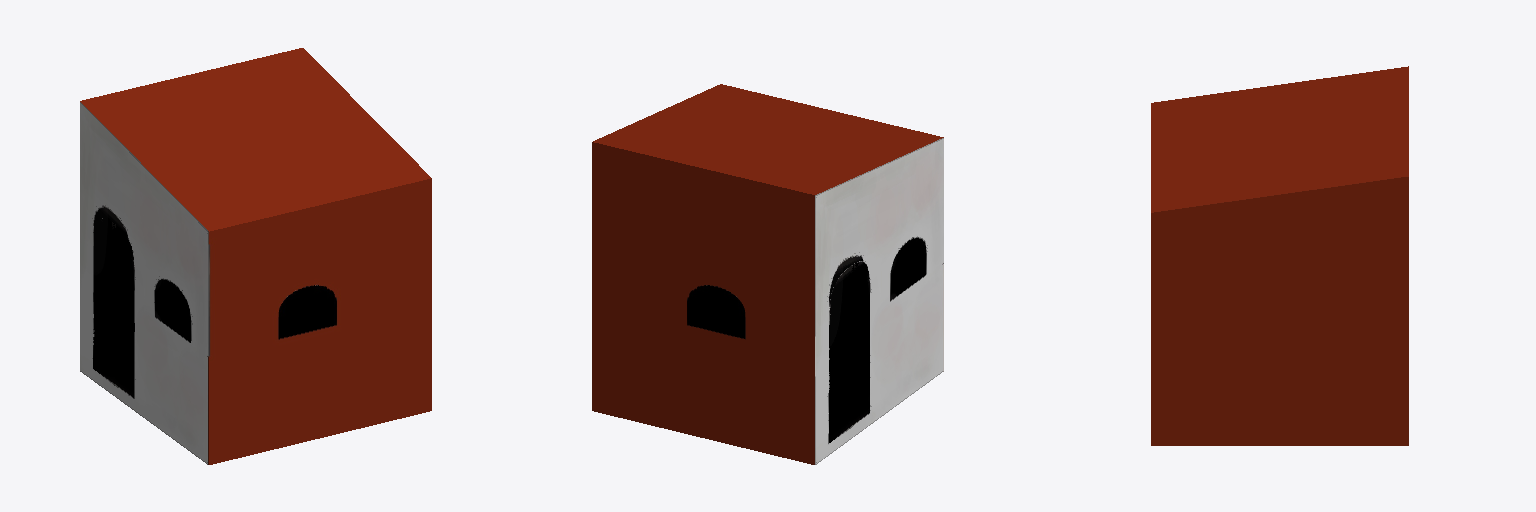
The picture shows the model from 3 angles: view 1: azimuth 30°, elevation 25°; view 2: azimuth 150°, elevation 25°; view 3: azimuth 270°, elevation 25°; orthographic projection.
Parts seen in each view (by area): view 1: pCube7; view 2: pCube7; view 3: pCube7.
Part boxes in pixels (left/top/right/bottom): pCube7: left=80, top=48, right=431, bottom=464; pCube7: left=592, top=84, right=943, bottom=464; pCube7: left=1151, top=66, right=1408, bottom=445.
Bounding box in the file's own units: 10.98 × 12.69 × 10.98.
1 materials, 1 textured.